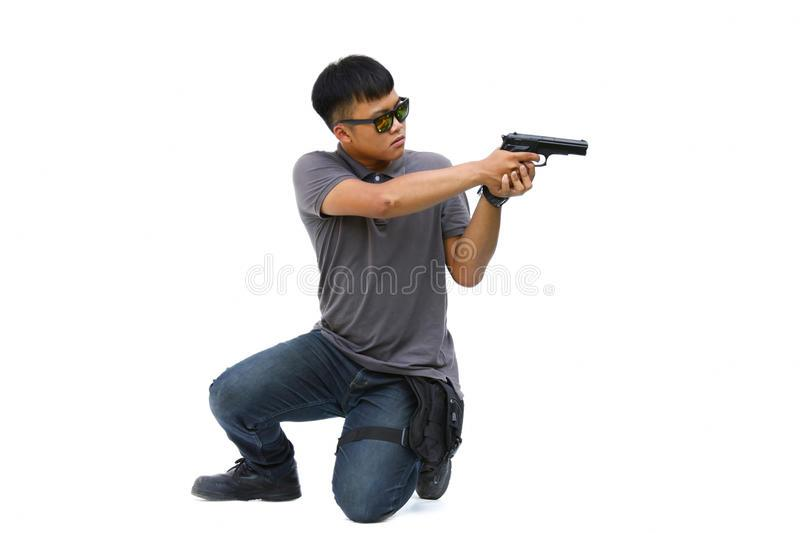criminal: (188, 53, 594, 527)
weapon: (490, 128, 593, 190)
